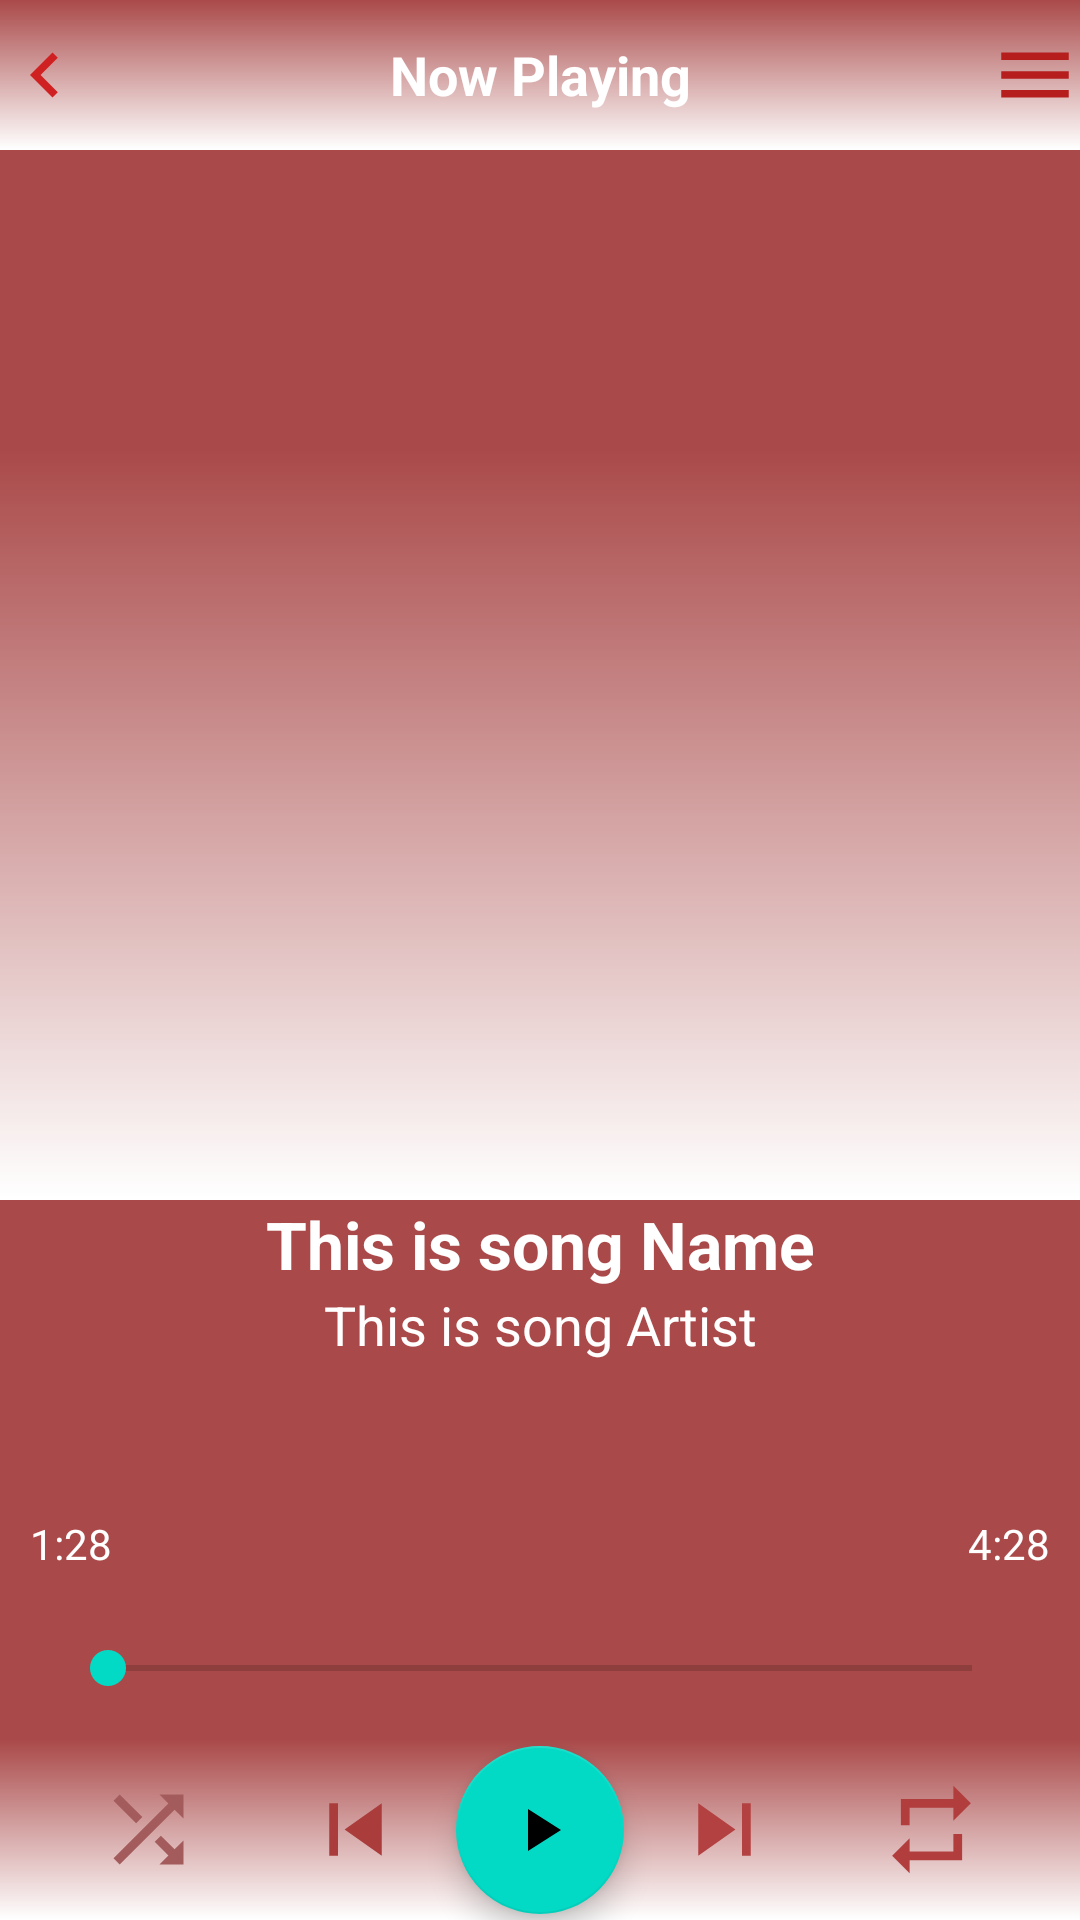

Icon click points for this 1080x1920 phone screenshot, format point (x, y):
chevron left: point (45, 75)
menu: point (1035, 75)
play: point (540, 1830)
repeat off: point (931, 1829)
shuffle off: point (148, 1829)
skip next: point (724, 1829)
skip previous: point (355, 1829)
